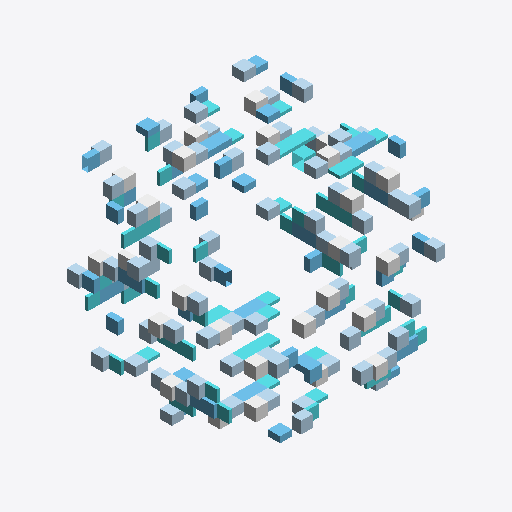
A Minecraft block model of 193 cuboids, rendered isometrically (azimuth 45°, elevation 35.3°) with the resource pack's own textures.
Parts seen in each view (by area): element 1, element 54.
Boxes of the visible parts, box(x1,y1,x2,y2) form: element 1: box(88, 76, 435, 435); element 54: box(275, 128, 315, 158).
Size of the model in its own units: 18 by 18 by 18.